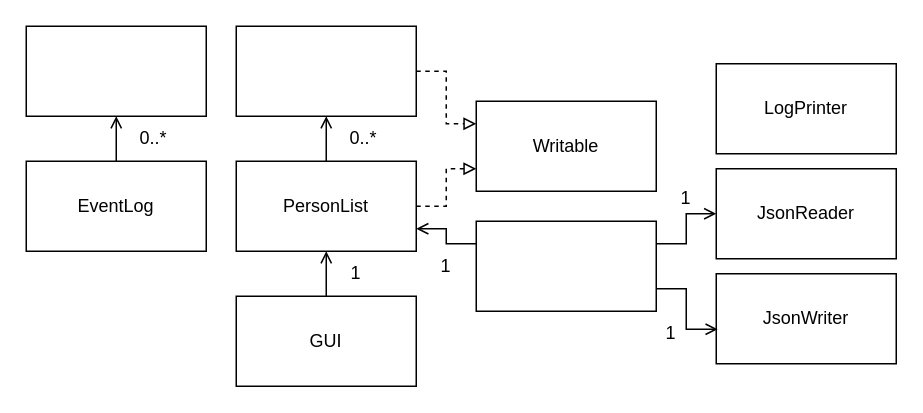
Some shapes in this 923 by 413 pixel diagram are drawn without their labels. Each missing label, with the centre of its shape:
Event: (115,70)
Person: (325,70)
PersonApp: (565,265)
